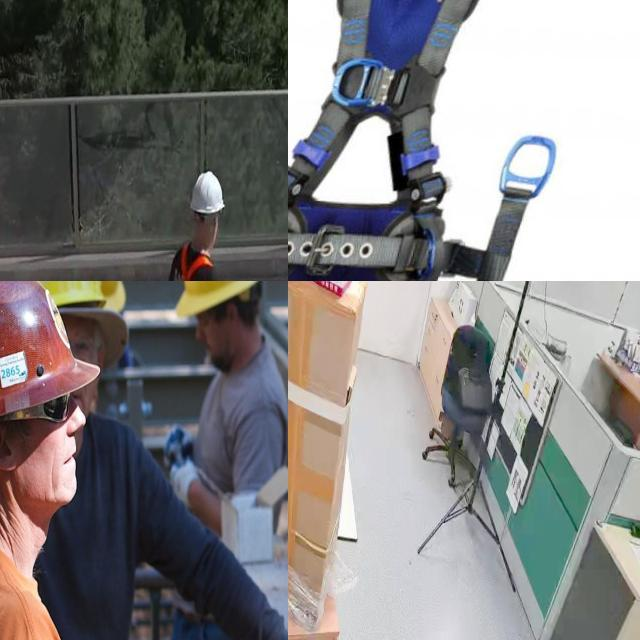Harness: (288, 0, 557, 281), (180, 244, 214, 281)
No_Ear-Protection: (0, 412, 26, 482), (220, 290, 242, 338)
